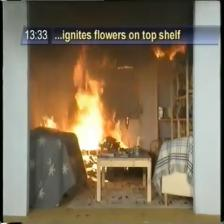fire: (67, 47, 129, 150), (41, 116, 57, 128)
